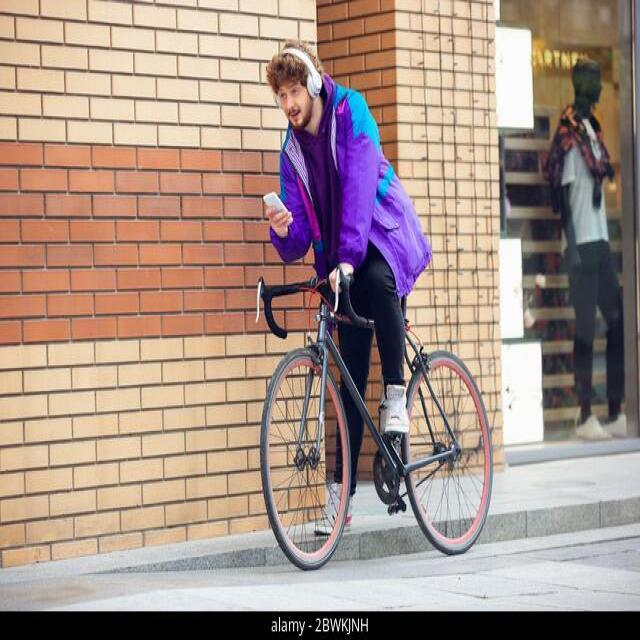No helmet: (259, 42, 361, 141)
